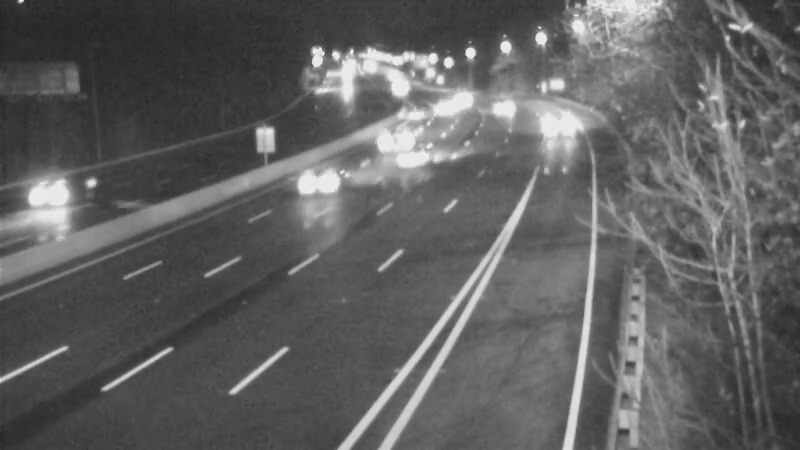vehicle: (376, 121, 456, 201), (285, 147, 365, 227), (6, 153, 86, 233), (374, 60, 424, 110), (435, 71, 485, 121), (475, 80, 525, 130), (420, 84, 470, 134), (389, 89, 439, 139), (524, 103, 574, 153), (379, 112, 429, 162)
